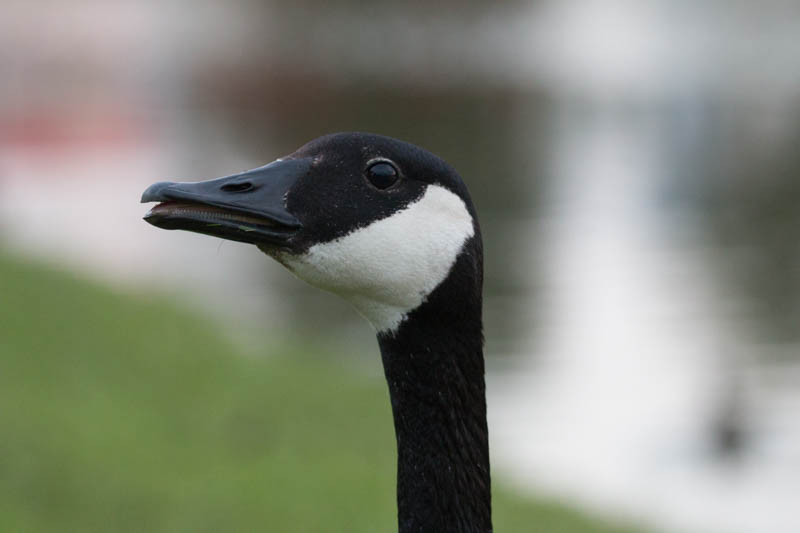goose-head: (140, 132, 483, 341)
